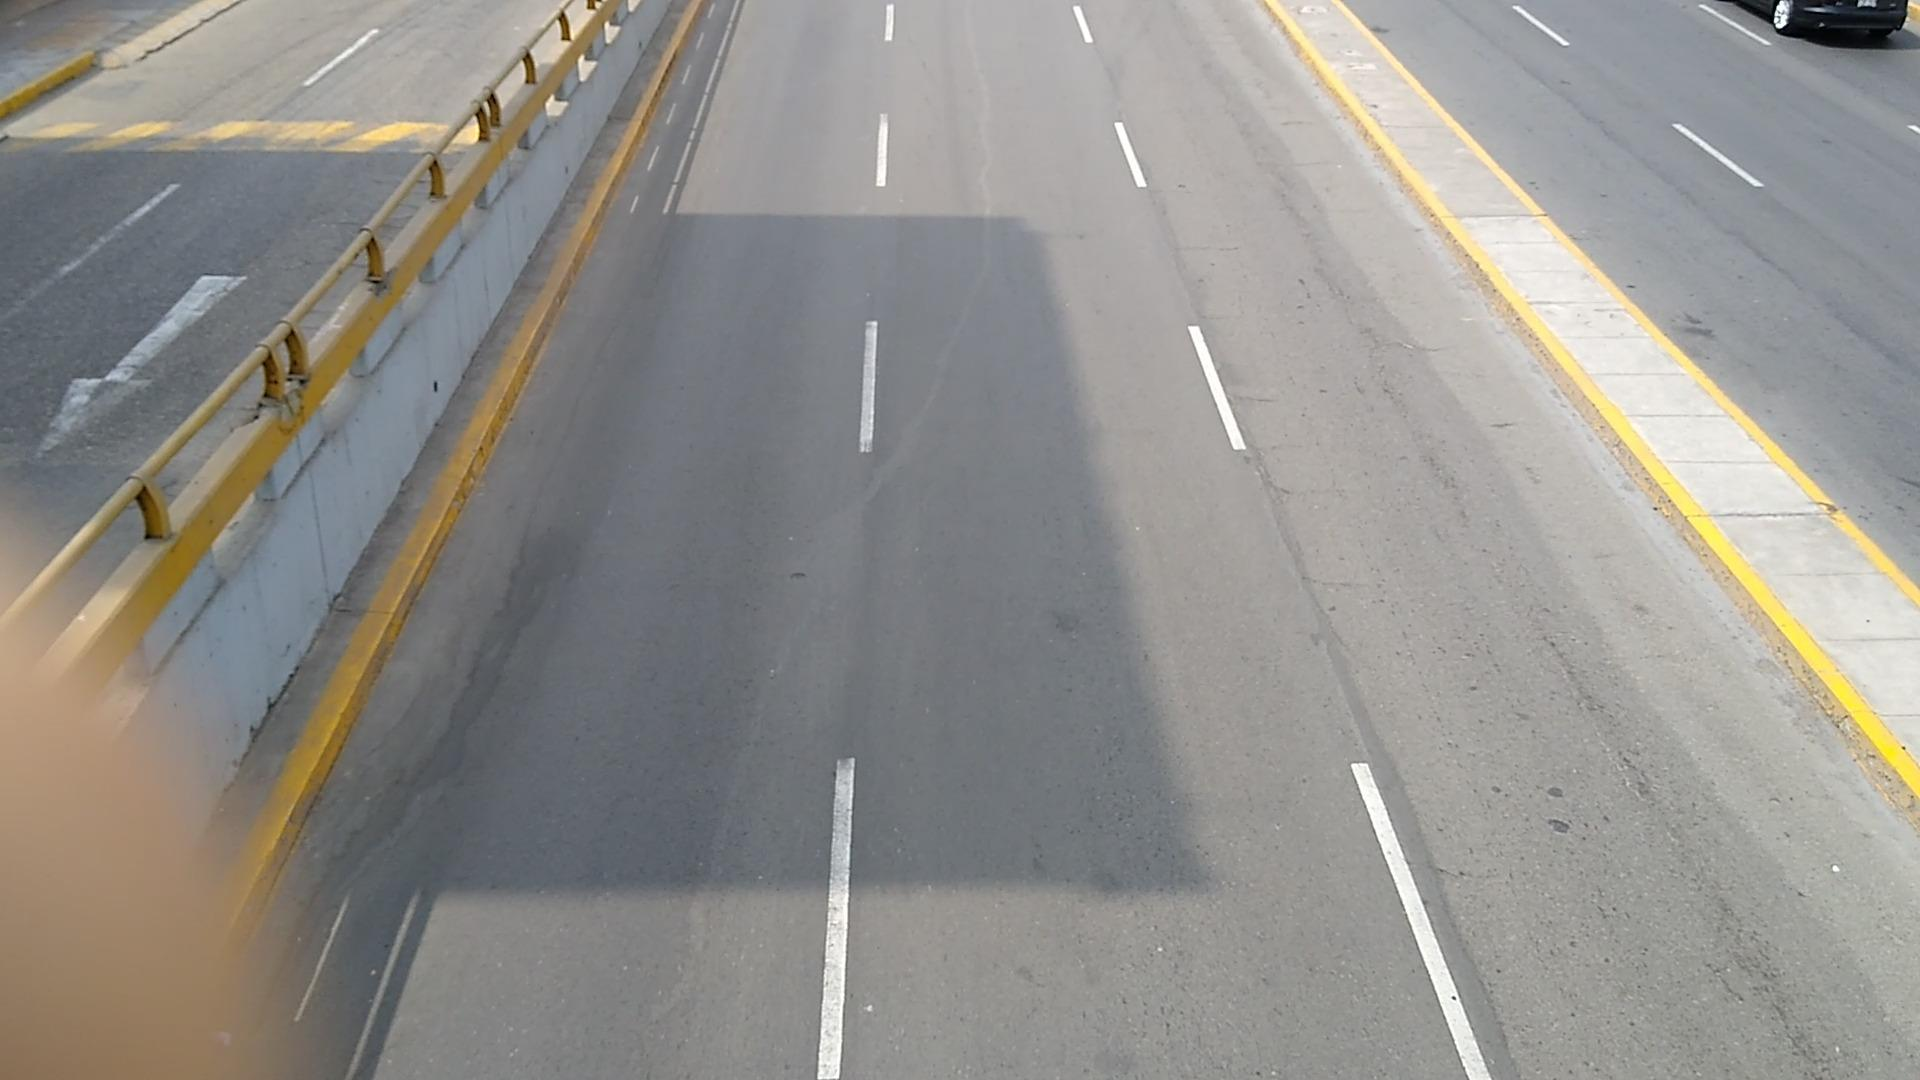car: (1736, 0, 1909, 38)
